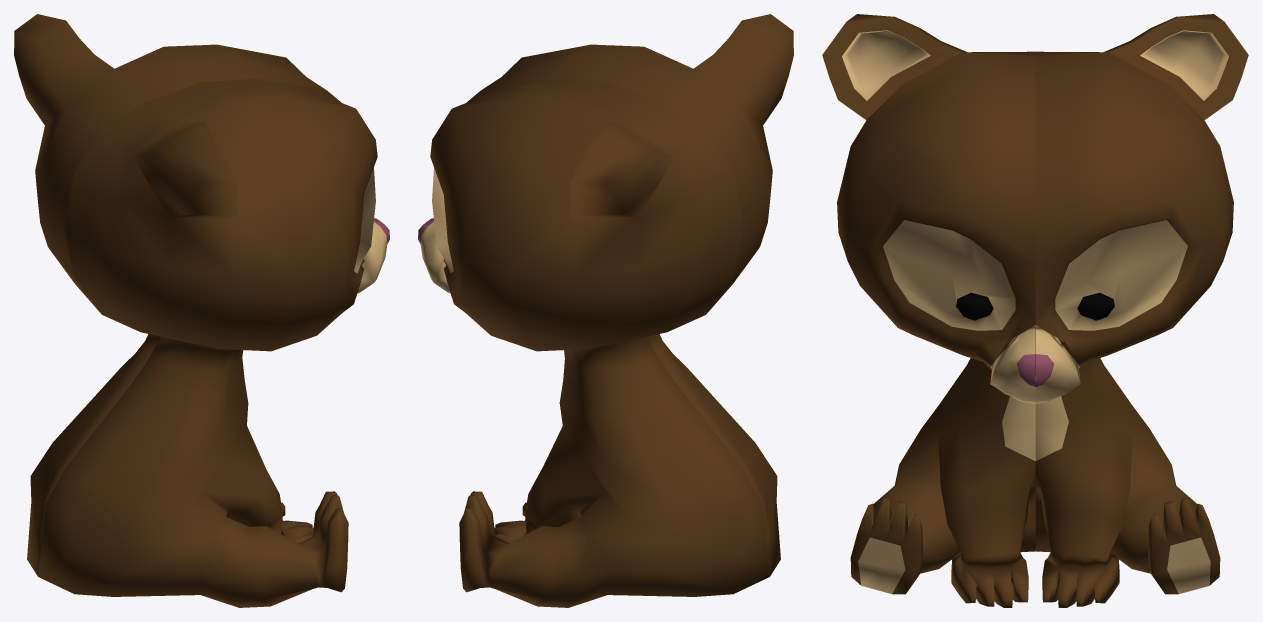
File: Bear.fbx
The picture shows the model from 3 angles, left to right: view 1: azimuth 30°, elevation 25°; view 2: azimuth 150°, elevation 25°; view 3: azimuth 270°, elevation 25°; orthographic projection. The views are drawn at different scales.
Visible parts, largest first — view 1: Cube; view 2: Cube; view 3: Cube.
Boxes of the visible parts, <box> form: Cube: <box>14,14,389,607</box>; Cube: <box>418,14,793,607</box>; Cube: <box>822,14,1248,607</box>.
Size of the model in its own units: 310 by 428 by 318.
